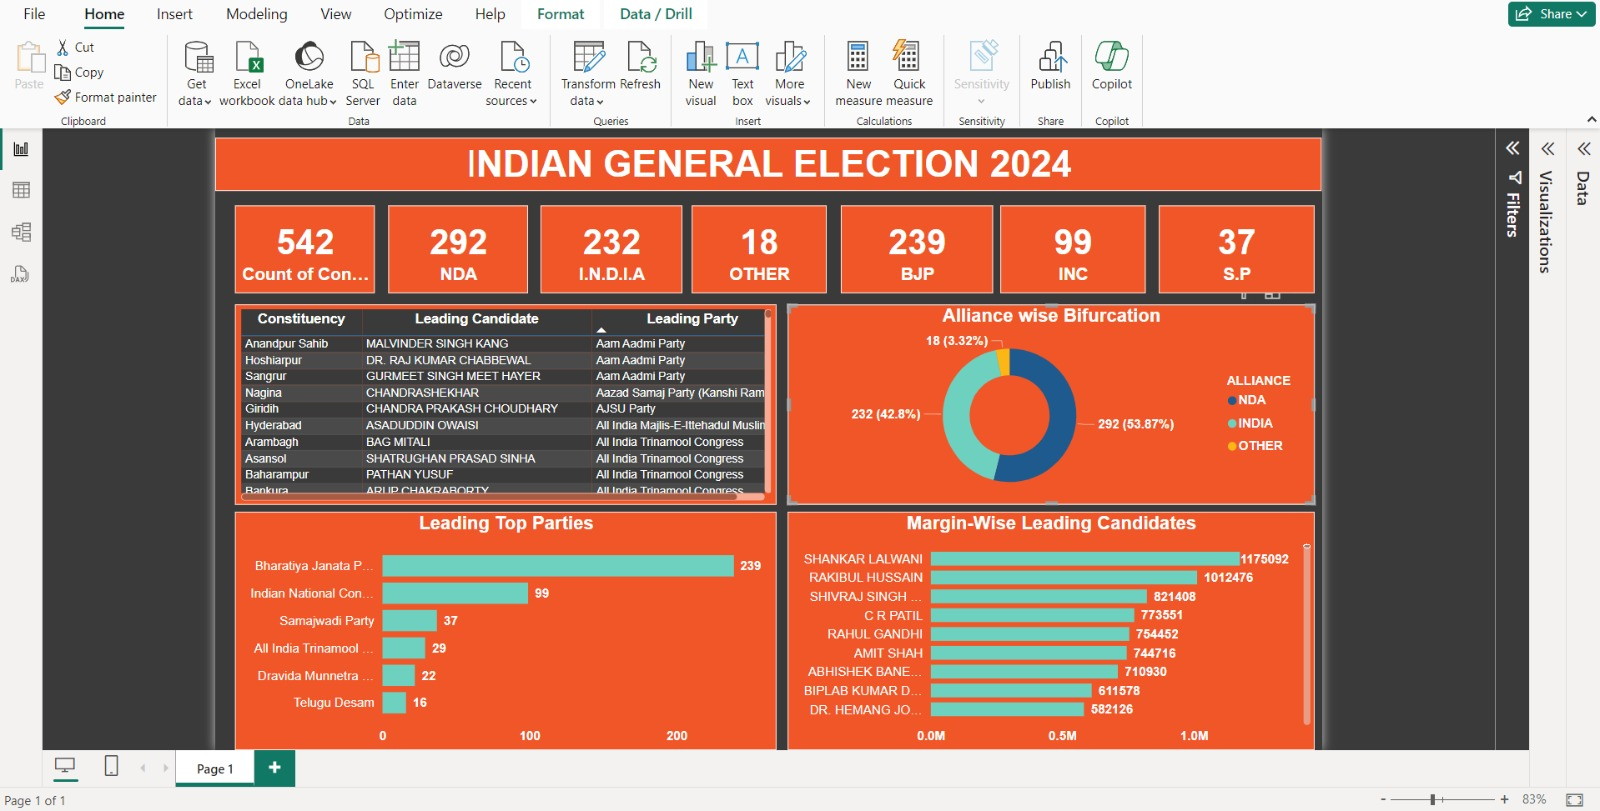

Layout of this report page (visuals, bound fields, positions):
{"tool":"powerbi","page":{"name":"Page 1","canvas":[1280,720],"ordinal":0},"visuals":[{"type":"clusteredBarChart","title":"Leading Top Parties ","fields":{"Category":["election_results_2024 - NDA INDA.Leading Party"],"Y":["election_results_2024 - NDA INDA.Leading Party"]},"box":[24.1,444,626.1,276.3],"z":0},{"type":"clusteredBarChart","title":"Margin-Wise Leading Candidates ","fields":{"Category":["election_results_2024 - NDA INDA.Leading Candidate"],"Y":["election_results_2024 - NDA INDA.Margin"]},"box":[662.3,444,609.3,276.3],"z":1000},{"type":"donutChart","title":"Alliance wise Bifurcation","fields":{"Category":["election_results_2024 - NDA INDA.ALLIANCE"],"Y":["election_results_2024 - NDA INDA.ALLIANCE"]},"box":[662.3,203.9,609.3,231.6],"z":2000},{"type":"card","fields":{"Values":["election_results_2024 - NDA INDA.ALLIANCE"]},"box":[200.3,89.3,161.7,101.3],"z":3000},{"type":"card","fields":{"Values":["election_results_2024 - NDA INDA.ALLIANCE"]},"box":[376.4,89.3,164.1,101.3],"z":4000},{"type":"card","fields":{"Values":["election_results_2024 - NDA INDA.ALLIANCE"]},"box":[551.3,89.3,155.6,101.3],"z":5000},{"type":"card","fields":{"Values":["election_results_2024 - NDA INDA.Leading Party"]},"box":[723.9,89.3,176.1,101.3],"z":6000},{"type":"card","fields":{"Values":["election_results_2024 - NDA INDA.Leading Party"]},"box":[908.4,89.3,167.7,101.3],"z":7000},{"type":"card","fields":{"Values":["election_results_2024 - NDA INDA.Leading Party"]},"box":[1091.8,89.3,179.8,101.3],"z":8000},{"type":"textbox","box":[0,10.9,1280,61.5],"z":9000},{"type":"tableEx","fields":{"Values":["election_results_2024 - NDA INDA.Constituency","election_results_2024 - NDA INDA.Leading Candidate","election_results_2024 - NDA INDA.Leading Party"]},"box":[22.9,203.9,626.1,231.6],"z":10000},{"type":"card","fields":{"Values":["election_results_2024 - NDA INDA.Constituency"]},"box":[22.9,89.3,161.7,101.3],"z":11000}]}

Visuals, with their boxes on the page's 1280x720 design canvas (x1, y1, x2, y2). These are canvas units, not pixel positions in the 1600x811 screenshot, which may show the page scaled, cropped or inside an application window:
"Leading Top Parties " clusteredBarChart: rect(24, 444, 650, 720)
"Margin-Wise Leading Candidates " clusteredBarChart: rect(662, 444, 1272, 720)
"Alliance wise Bifurcation" donutChart: rect(662, 204, 1272, 436)
card - election_results_2024 - NDA INDA.ALLIANCE: rect(200, 89, 362, 191)
card - election_results_2024 - NDA INDA.ALLIANCE: rect(376, 89, 540, 191)
card - election_results_2024 - NDA INDA.ALLIANCE: rect(551, 89, 707, 191)
card - election_results_2024 - NDA INDA.Leading Party: rect(724, 89, 900, 191)
card - election_results_2024 - NDA INDA.Leading Party: rect(908, 89, 1076, 191)
card - election_results_2024 - NDA INDA.Leading Party: rect(1092, 89, 1272, 191)
textbox: rect(0, 11, 1280, 72)
tableEx - election_results_2024 - NDA INDA.Constituency x election_results_2024 - NDA INDA.Leading Candidate: rect(23, 204, 649, 436)
card - election_results_2024 - NDA INDA.Constituency: rect(23, 89, 185, 191)
